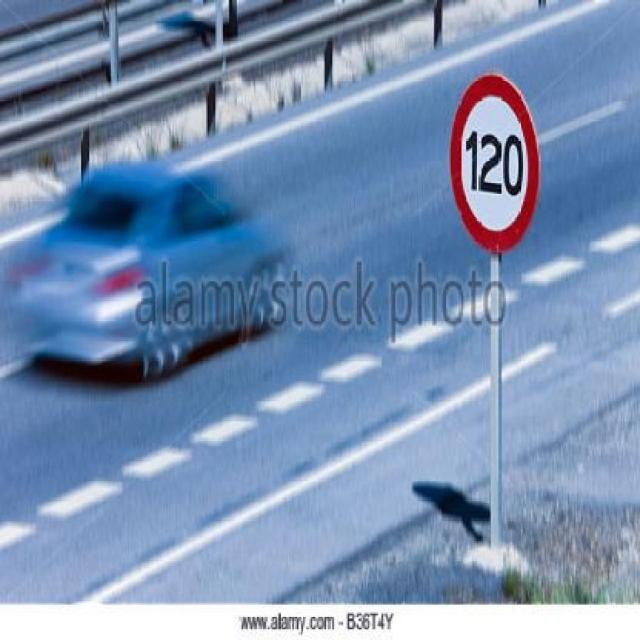forb_speed_over_120: (449, 78, 536, 260)
